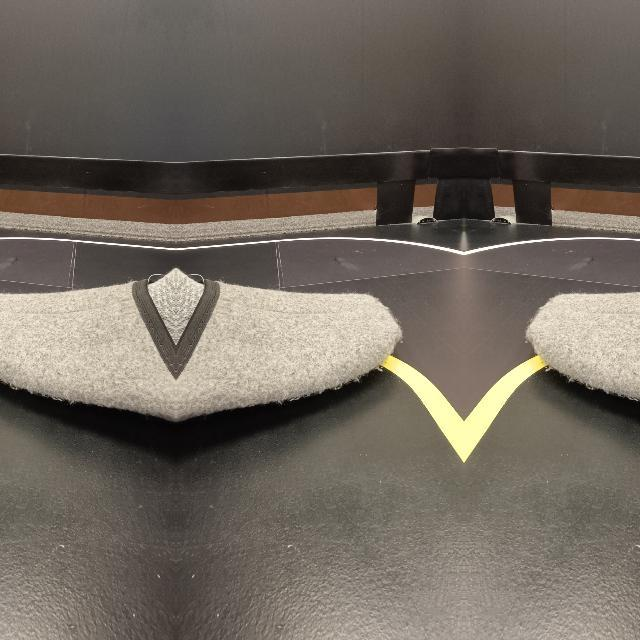obstacle: (176, 262, 400, 422), (0, 262, 174, 422), (527, 262, 640, 422)
